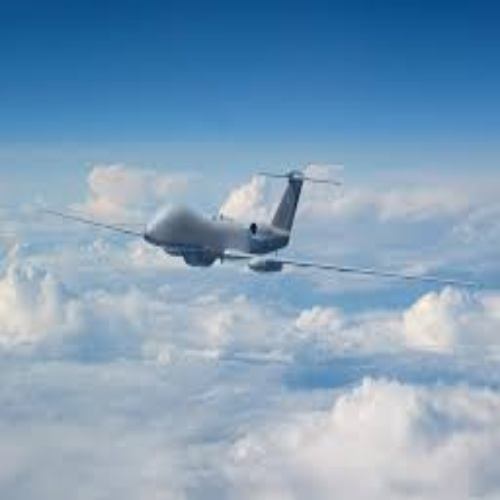uav: (41, 168, 489, 296)
